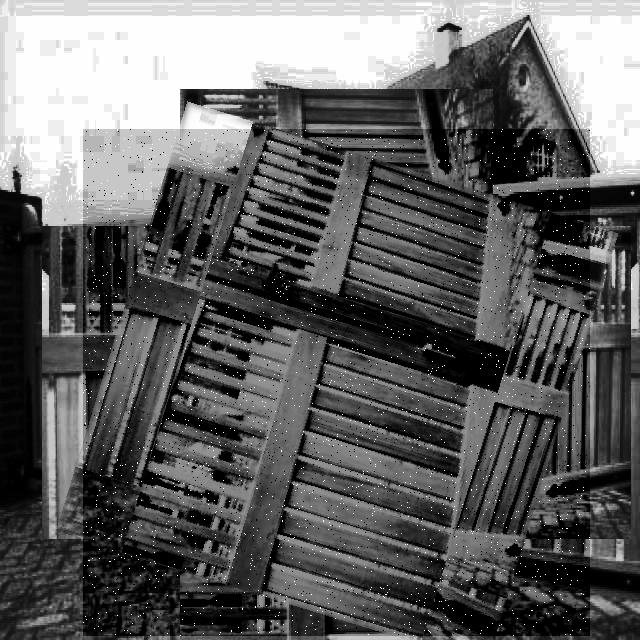fences: (83, 129, 590, 636)
